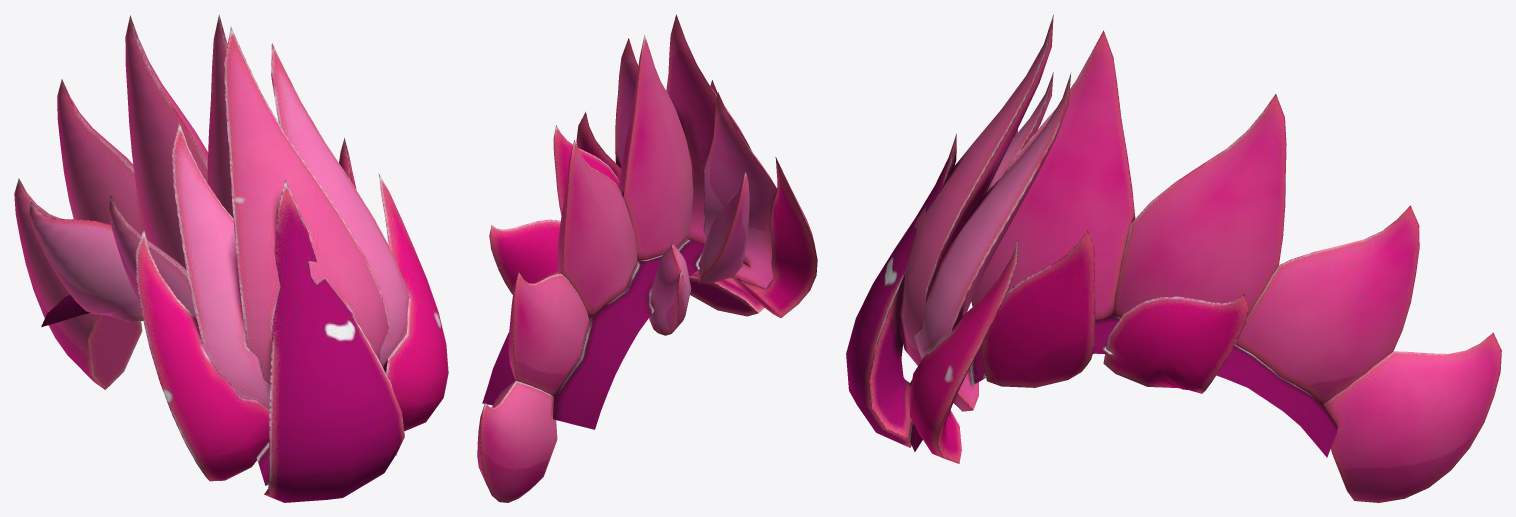
File: 10_017_mohawk_hair.glb
3 views of the same model, side by side, from view 1: azimuth 30°, elevation 25°; view 2: azimuth 150°, elevation 25°; view 3: azimuth 270°, elevation 25° (orthographic). The views are drawn at different scales.
Parts seen in each view (by area): view 1: mohawk; view 2: mohawk; view 3: mohawk.
Boxes of the visible parts, left/top/right/bottom form: mohawk: left=14, top=14, right=448, bottom=502; mohawk: left=477, top=14, right=817, bottom=502; mohawk: left=846, top=14, right=1501, bottom=502.
Bounding box in the file's own units: 0.1833 × 0.2978 × 0.3725.
1 material, 1 textured.
